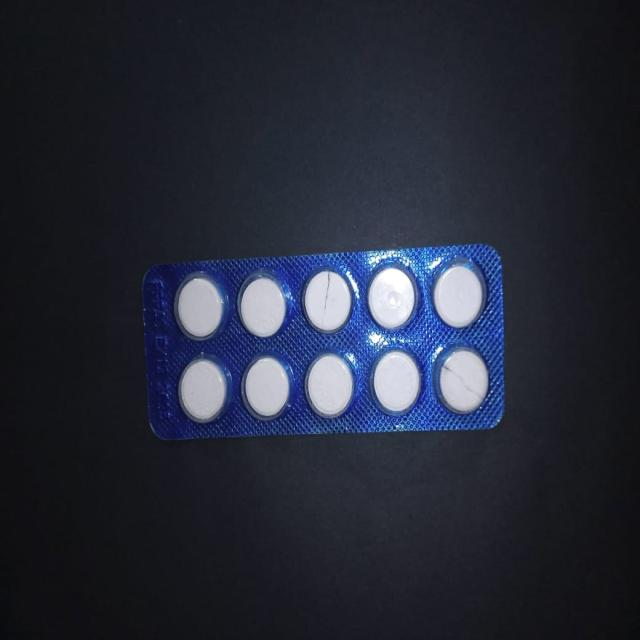defect: (431, 342, 493, 418), (299, 265, 357, 335)
